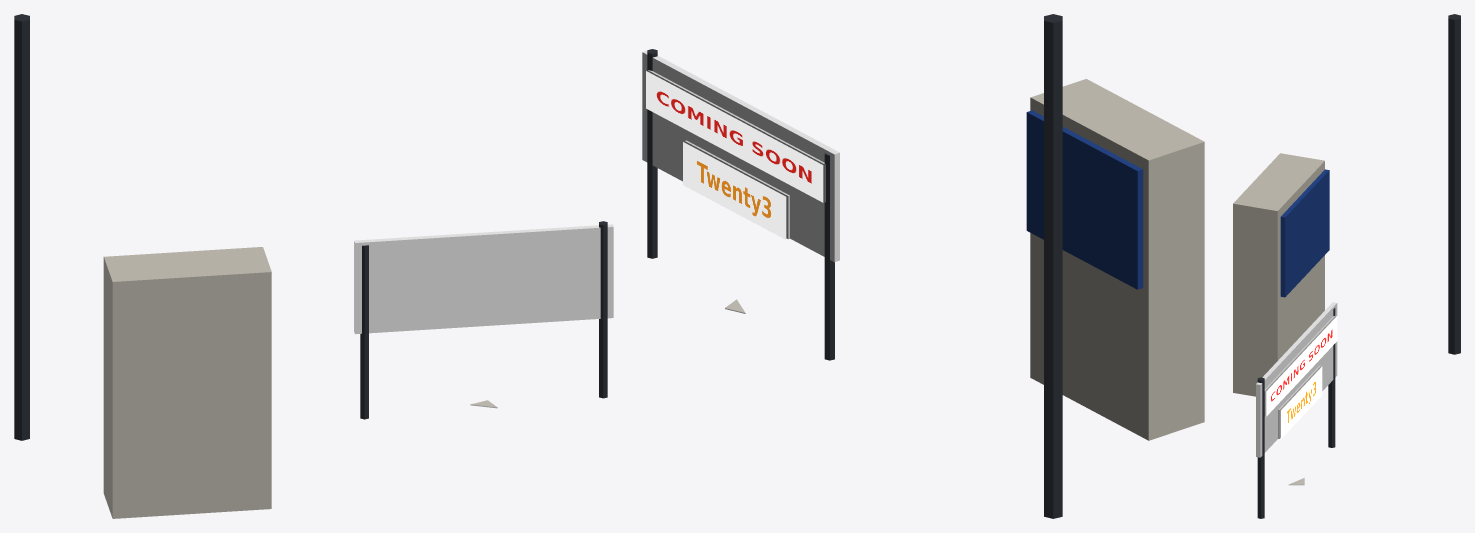
Rendered from noord_comingsoon.glb.
The picture shows the model from 3 angles, left to right: view 1: azimuth 30°, elevation 25°; view 2: azimuth 150°, elevation 25°; view 3: azimuth 270°, elevation 25°; orthographic projection. The views are drawn at different scales.
Parts seen in each view (by area): view 1: noord_comingsoon_lod0; view 2: noord_comingsoon_lod0; view 3: noord_comingsoon_lod0.
Part boxes in pixels (x1,y1,x2,y2): noord_comingsoon_lod0: (14,14,613,518); noord_comingsoon_lod0: (642,14,1204,518); noord_comingsoon_lod0: (1233,14,1460,518).
Size of what is drawn, in the model's own units: 5.6 by 4.6 by 2.84.
Materials: 8 (1 with a texture image).
